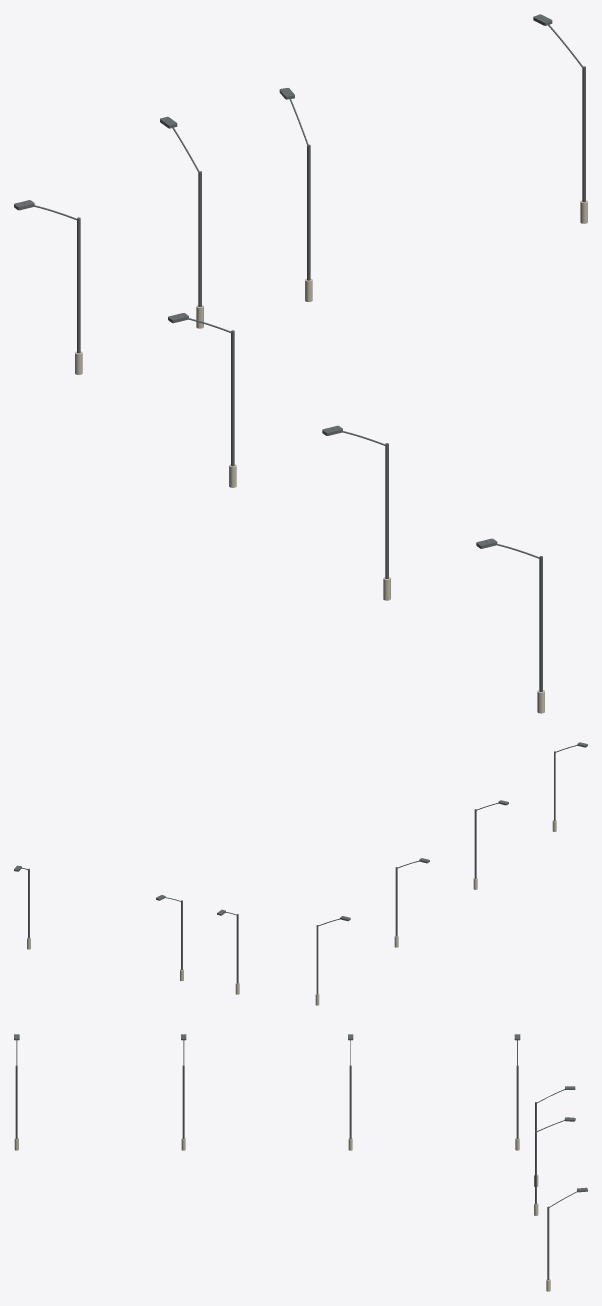
3 views of the same model, one above another, from view 1: azimuth 30°, elevation 25°; view 2: azimuth 150°, elevation 25°; view 3: azimuth 270°, elevation 25° (orthographic). The views are drawn at different scales.
Parts seen in each view (by area): view 1: buildings_s_-4_-3_Dark_Metal, buildings_s_-4_-3_Warm_Limestone; view 2: buildings_s_-4_-3_Dark_Metal, buildings_s_-4_-3_Warm_Limestone; view 3: buildings_s_-4_-3_Dark_Metal, buildings_s_-4_-3_Warm_Limestone.
Part boxes in pixels (box(x1,y1,x2,y2)): buildings_s_-4_-3_Dark_Metal: box(14, 14, 585, 691); buildings_s_-4_-3_Warm_Limestone: box(75, 200, 587, 713); buildings_s_-4_-3_Dark_Metal: box(14, 742, 587, 994); buildings_s_-4_-3_Warm_Limestone: box(27, 820, 556, 1005); buildings_s_-4_-3_Dark_Metal: box(14, 1034, 587, 1279); buildings_s_-4_-3_Warm_Limestone: box(14, 1138, 550, 1291).
Size of the model in its own units: 60.69 by 17.75 by 92.84.
